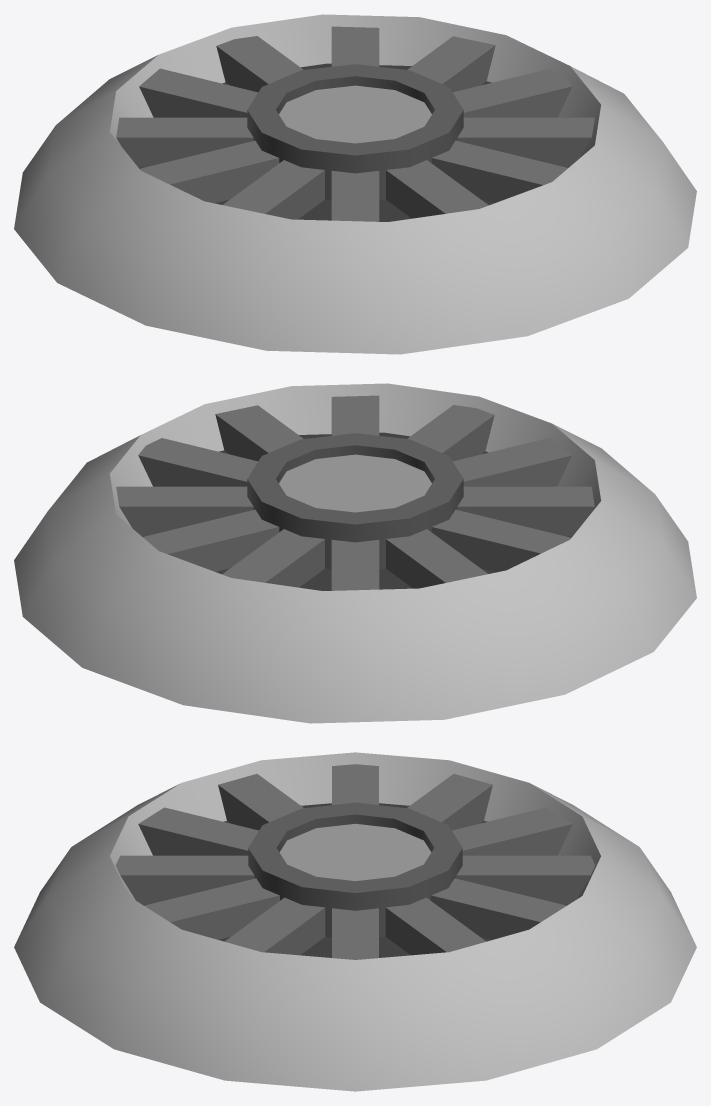
File: space_station_decoration_019.fbx
3 renders of one model, top to bottom at view 1: azimuth 30°, elevation 25°; view 2: azimuth 150°, elevation 25°; view 3: azimuth 270°, elevation 25°, orthographic.
Parts seen in each view (by area): view 1: space_station_decoration_019; view 2: space_station_decoration_019; view 3: space_station_decoration_019.
Part boxes in pixels (x1,y1,x2,y2): space_station_decoration_019: (14,14,696,354); space_station_decoration_019: (14,383,696,723); space_station_decoration_019: (14,752,696,1091).
Bounding box in the file's own units: 765 × 765 × 123.
